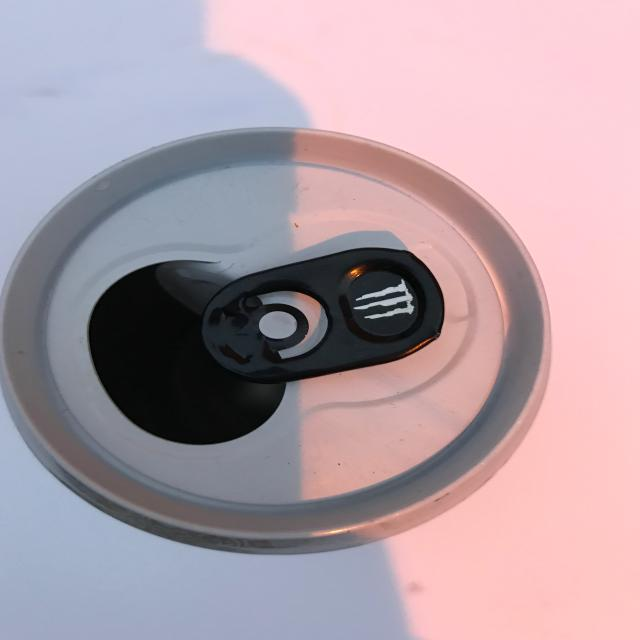metal: (0, 125, 552, 556)
